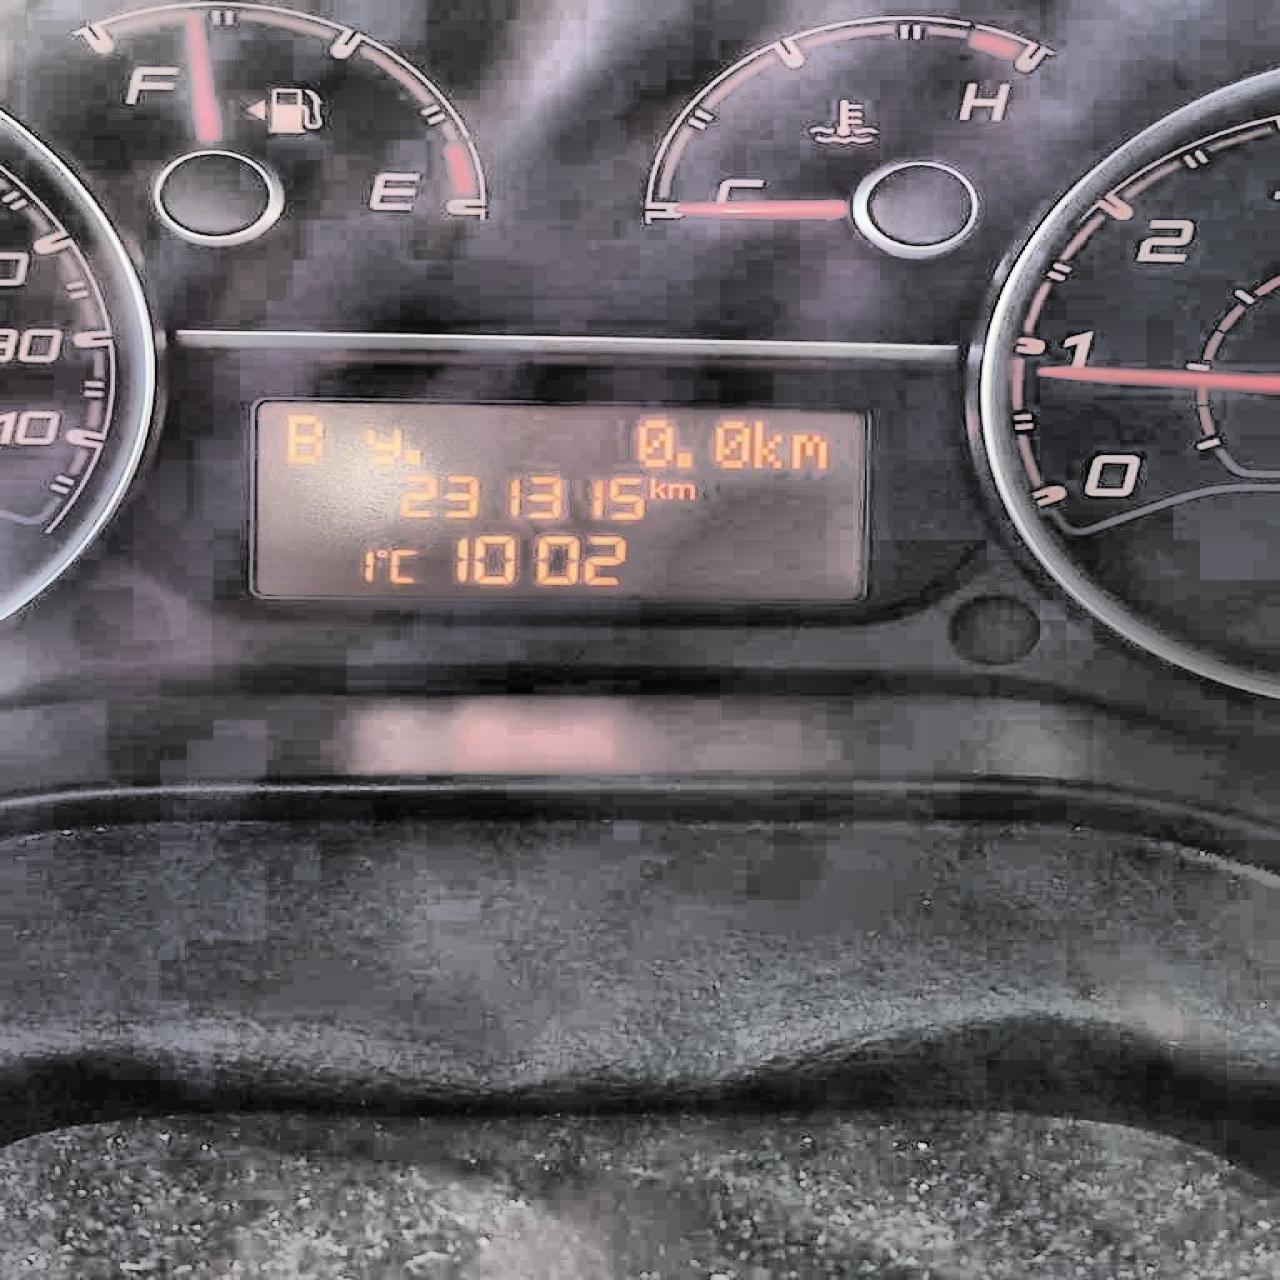-: (402, 445, 421, 465), (672, 450, 693, 468)
0: (471, 535, 516, 584), (533, 535, 577, 585), (635, 418, 673, 469), (714, 418, 749, 469)
1: (455, 536, 468, 583), (590, 477, 604, 518), (506, 477, 520, 517), (362, 549, 373, 581)
2: (580, 535, 627, 585), (396, 474, 436, 517)
3: (440, 474, 481, 518), (523, 475, 561, 519)
5: (607, 476, 645, 520)
X: (284, 413, 325, 463), (361, 425, 402, 465), (751, 418, 783, 468), (788, 431, 826, 469), (388, 547, 417, 583), (665, 482, 695, 498), (647, 475, 666, 499)
odometer: (247, 395, 873, 605)
